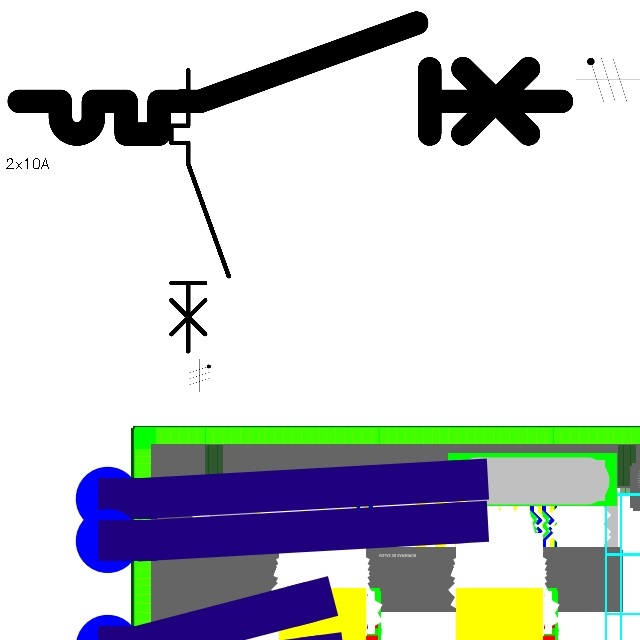interruptor_termomagnetico: (5, 9, 575, 148), (164, 63, 236, 359)
